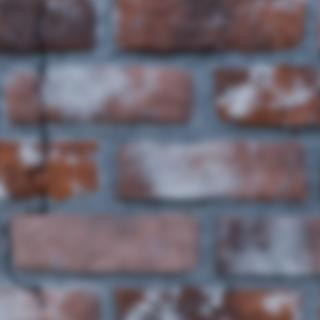brick: (117, 140, 307, 200), (10, 214, 198, 273), (113, 0, 306, 54), (214, 64, 319, 127), (214, 217, 319, 275), (116, 287, 301, 319), (317, 17, 319, 46)
broken_brick: (40, 63, 194, 125), (0, 0, 97, 54), (33, 139, 99, 202), (0, 286, 101, 319), (0, 138, 42, 199), (4, 71, 40, 125)
crack: (0, 2, 51, 317), (152, 0, 214, 19), (216, 228, 225, 239)
